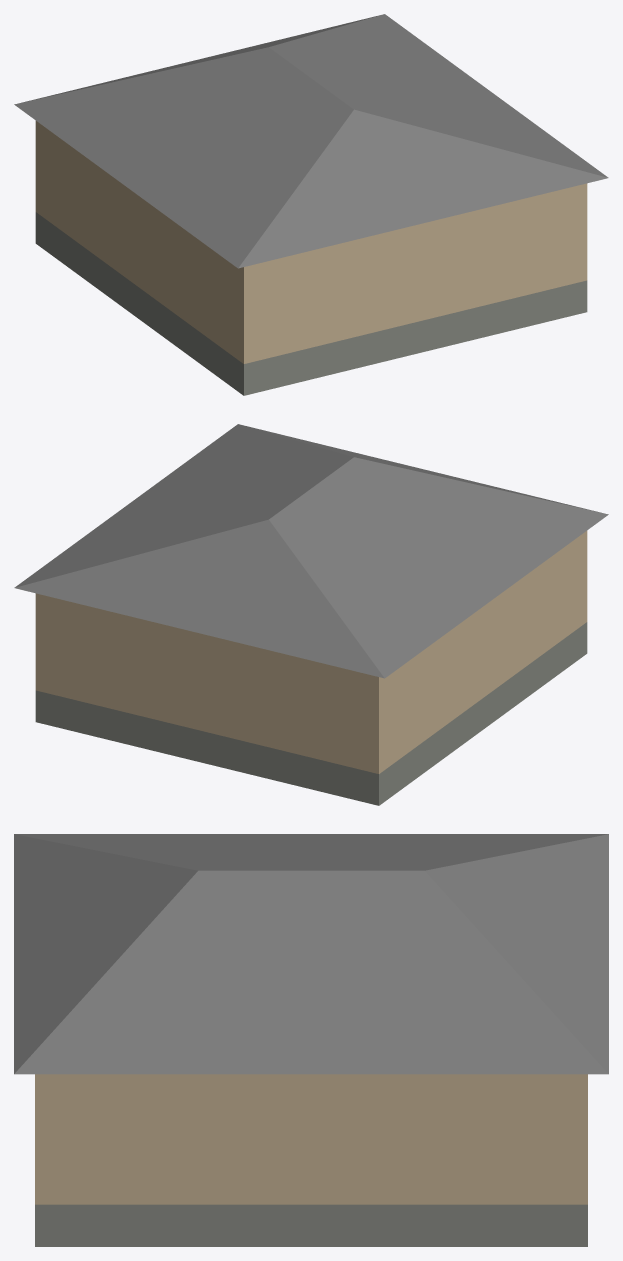
Rendered from far.fbx.
3 views of the same model, one above another, from view 1: azimuth 30°, elevation 25°; view 2: azimuth 150°, elevation 25°; view 3: azimuth 270°, elevation 25° (orthographic). The views are drawn at different scales.
Visible parts, largest first — view 1: a2000/400/far; view 2: a2000/400/far; view 3: a2000/400/far.
Boxes of the visible parts, x1,y1,x2,y2 form: a2000/400/far: [14, 14, 608, 395]; a2000/400/far: [14, 424, 608, 805]; a2000/400/far: [14, 834, 608, 1246].
Bounding box in the file's own units: 10.8 × 5.55 × 11.3.
